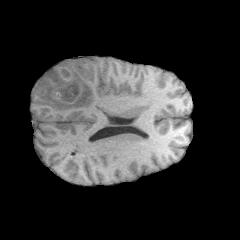glioma: (39, 65, 97, 111)
